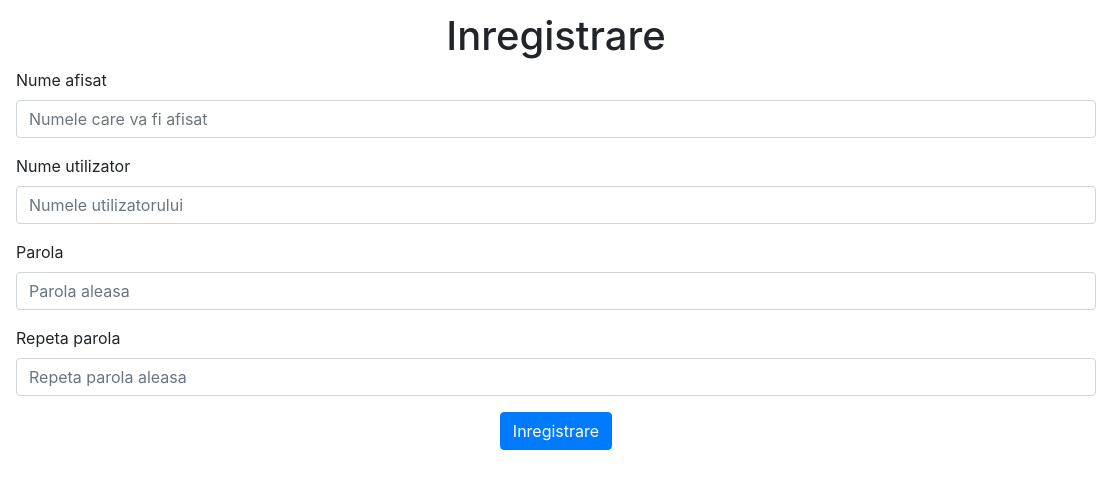
Test: PaginaInregistrareUtilizator › Interactiuni › 19. Ascunde eroarea de validare pentru numele utilizatorului atunci când se schimbă valoarea pentru acest câmp.
In the field with placeholder "Numele care va fi afisat": (556,119) [16,100,1096,138], type "nume-afisat"
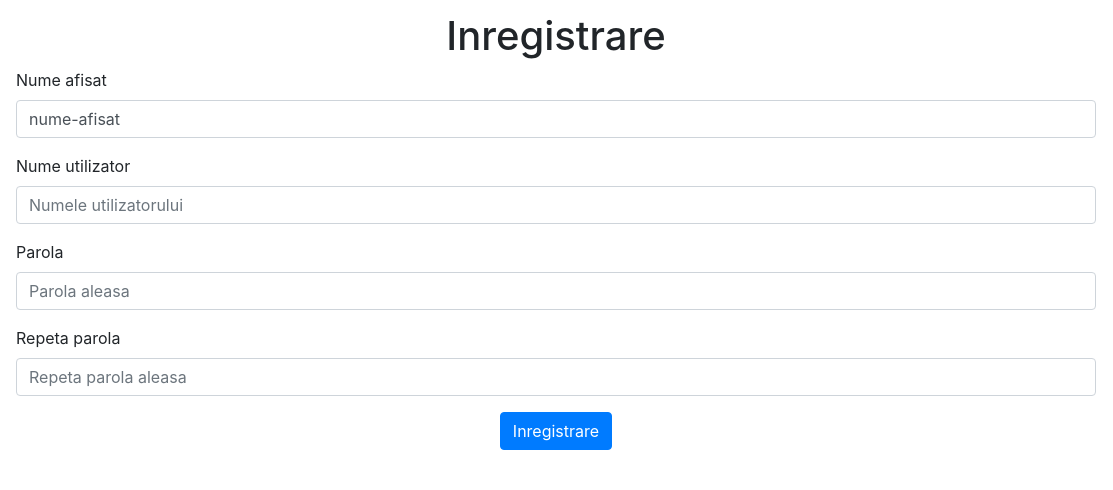
In the field with placeholder "Numele utilizatorului": (556,205) [16,186,1096,224], type "nume-utilizator"
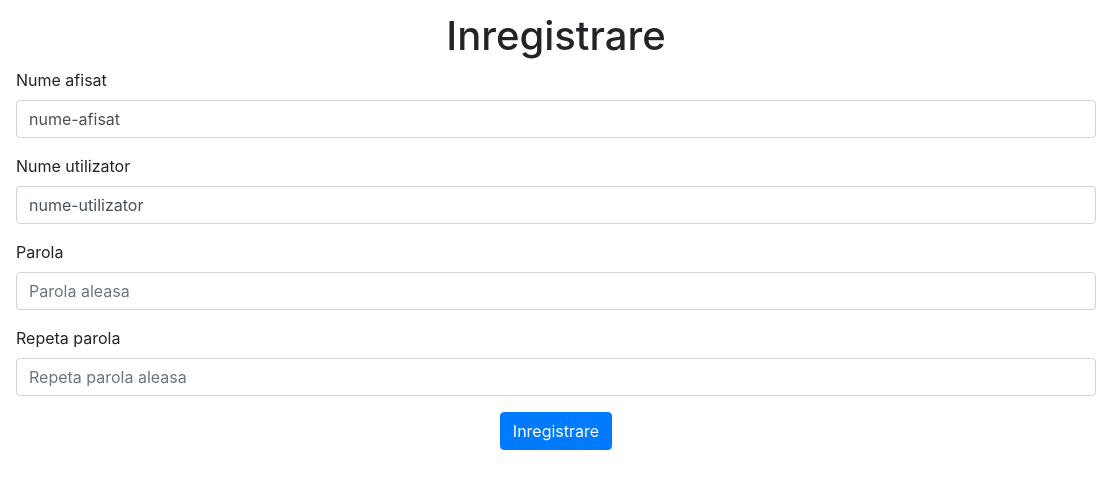
In the password field with placeholder "Parola aleasa": (556,291) [16,272,1096,310], type "Parola01"
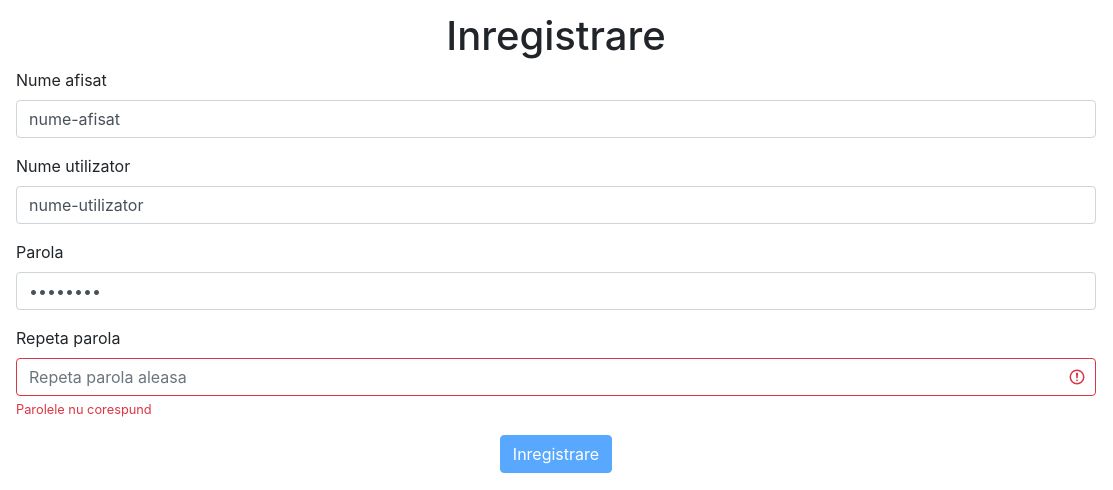
In the password field with placeholder "Repeta parola aleasa": (556,377) [16,358,1096,396], type "Parola01"
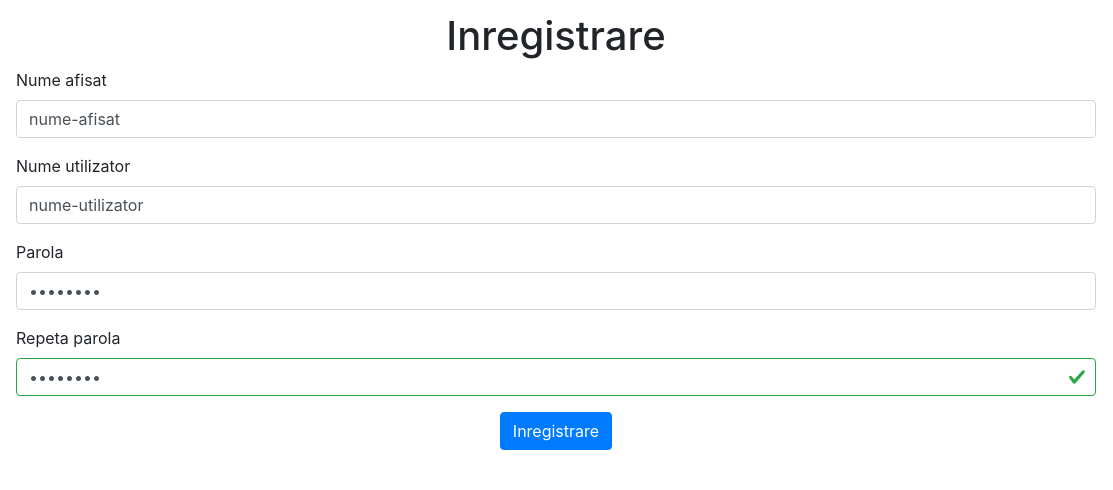
Click the button "Inregistrare": (556,431) [500,412,612,450]
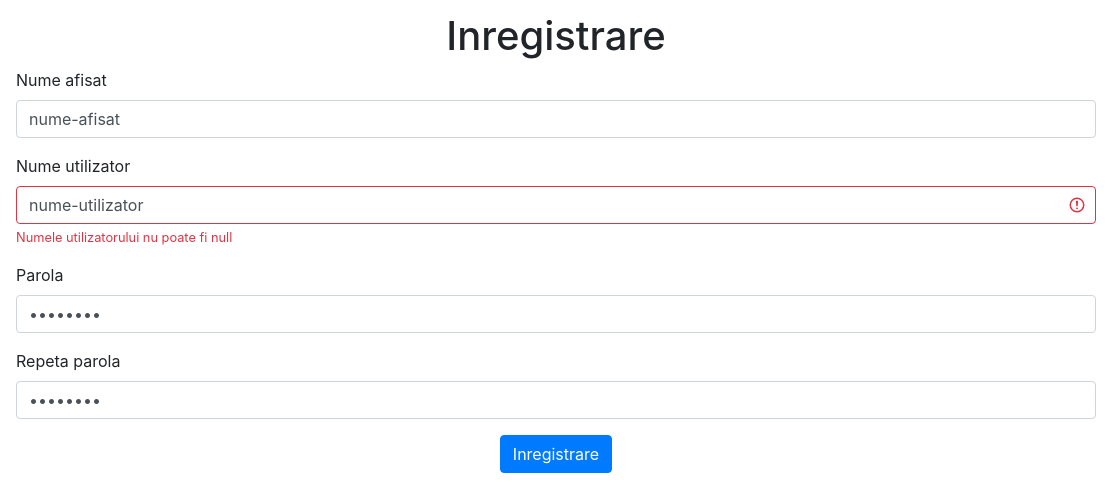
Replace the text in the field with placeholder "Numele utilizatorului" below "Nume utilizator" with "nume utilizator schimbat": (556,205) [16,186,1096,224]
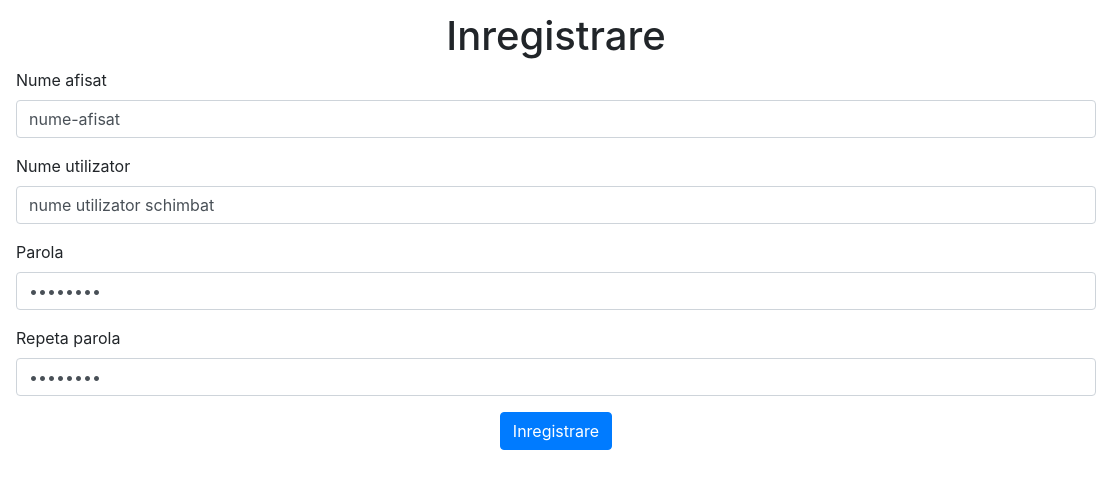
Check: the text "Numele utilizatorului nu poate fi null" is gone
